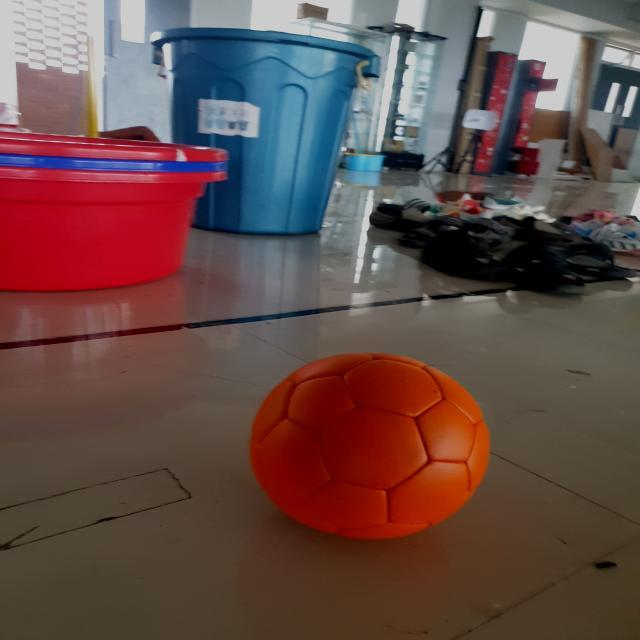bola: (244, 349, 498, 549)
